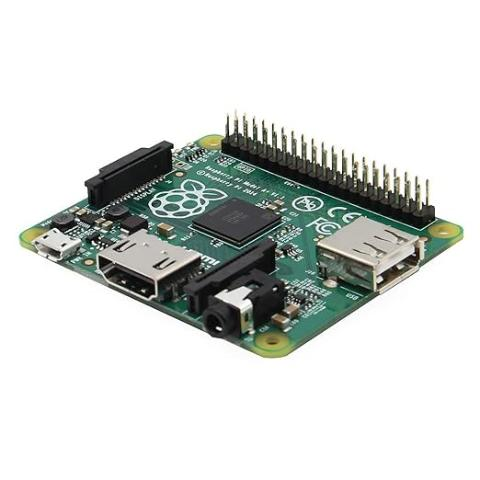Raspberry-Pi-1-Model-A-: (12, 101, 472, 375)
